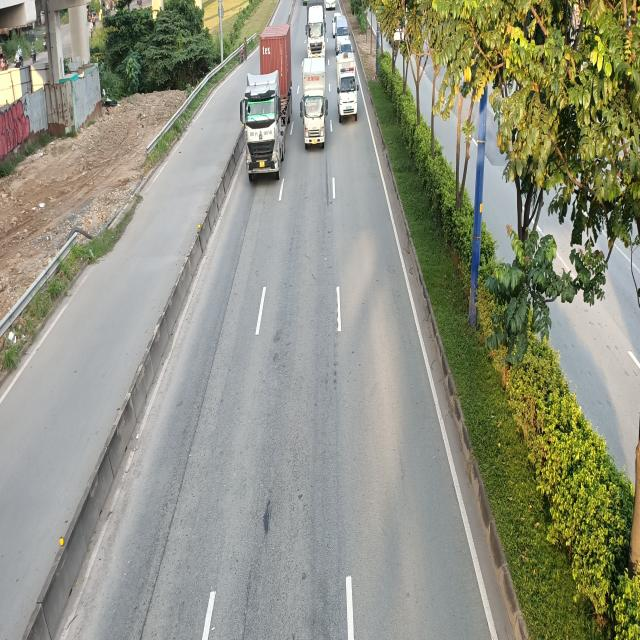container: (242, 24, 294, 180), (306, 1, 326, 54)
truck: (299, 57, 327, 147), (338, 52, 361, 122)
